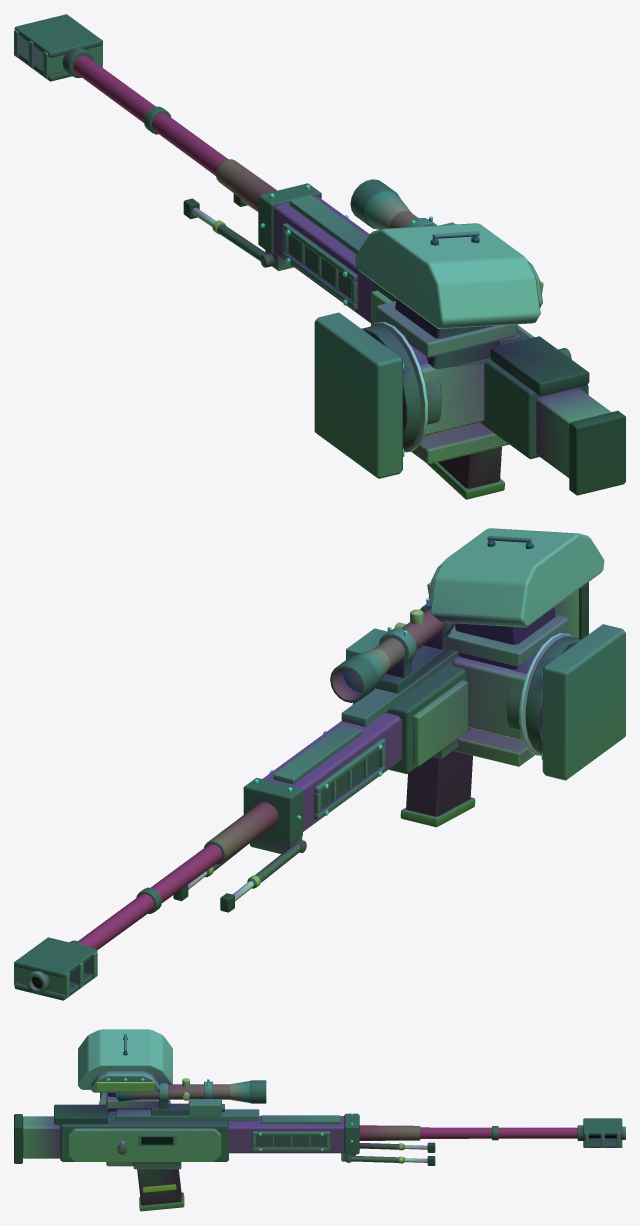
The model's file is arm_sniper.glb.
3 renders of one model, top to bottom at view 1: azimuth 30°, elevation 25°; view 2: azimuth 150°, elevation 25°; view 3: azimuth 270°, elevation 25°, orthographic. The views are drawn at different scales.
Parts seen in each view (by area): view 1: Body__gunmetal, Body__armor, Body__dark, Body__armor_sub, Body__rubber, Body__chrome, Body__armor_dark; view 2: Body__gunmetal, Body__dark, Body__armor, Body__armor_sub, Body__chrome, Body__armor_dark, Body__rubber; view 3: Body__dark, Body__armor_sub, Body__gunmetal, Body__armor, Body__rubber, Body__armor_dark, Body__accent, Body__chrome, Body__bore.
Part boxes in pixels (x1,y1,x2,y2): Body__gunmetal: [14, 29, 520, 499]; Body__armor: [273, 195, 540, 436]; Body__dark: [14, 14, 587, 488]; Body__armor_sub: [371, 261, 611, 477]; Body__rubber: [183, 193, 625, 495]; Body__chrome: [192, 185, 432, 456]; Body__armor_dark: [365, 190, 455, 229]; Body__gunmetal: [14, 536, 625, 998]; Body__dark: [14, 541, 581, 1000]; Body__armor: [262, 528, 604, 831]; Body__armor_sub: [352, 564, 578, 766]; Body__chrome: [188, 598, 572, 901]; Body__armor_dark: [346, 628, 390, 683]; Body__rubber: [173, 582, 588, 912]; Body__dark: [60, 1037, 622, 1205]; Body__armor_sub: [23, 1071, 221, 1166]; Body__gunmetal: [100, 1034, 625, 1211]; Body__armor: [78, 1029, 344, 1153]; Body__rubber: [14, 1104, 435, 1165]; Body__armor_dark: [188, 1081, 250, 1116]; Body__accent: [97, 1082, 176, 1192]; Body__chrome: [99, 1078, 427, 1162]; Body__bore: [141, 1135, 616, 1144].
Size of the model in its own units: 0.829 by 1.08 by 3.84.
